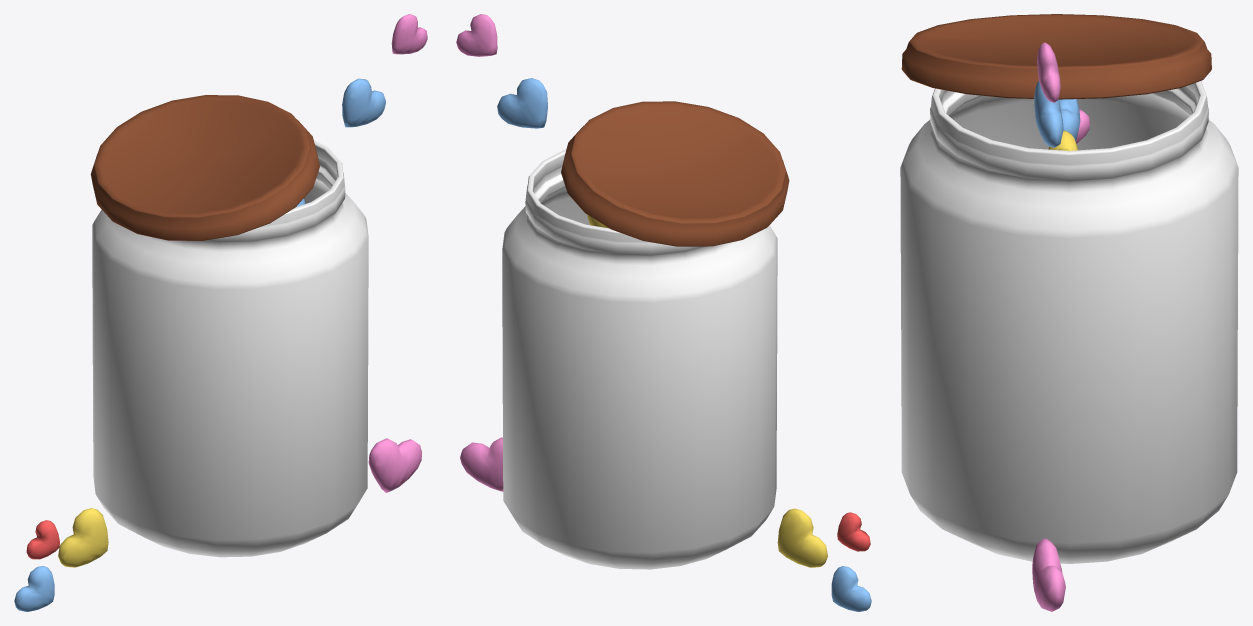
File: Level_P_50.fbx
The picture shows the model from 3 angles, left to right: view 1: azimuth 30°, elevation 25°; view 2: azimuth 150°, elevation 25°; view 3: azimuth 270°, elevation 25°; orthographic projection. The views are drawn at different scales.
Visible parts, largest first — view 1: Probnik2.001, Probnik2.002, Probnik2.003, Probnik2.012, Probnik2.043, Probnik2.014, Probnik2, Probnik2.013; view 2: Probnik2.001, Probnik2.002, Probnik2.012, Probnik2.043, Probnik2.003, Probnik2, Probnik2.014, Probnik2.013; view 3: Probnik2.001, Probnik2.002, Probnik2.003, Probnik2.043, Probnik2, Probnik2.042.
Part boxes in pixels (box(x1,y1,x2,y2)): Probnik2.001: box(92, 140, 368, 557); Probnik2.002: box(90, 95, 319, 240); Probnik2.003: box(368, 438, 421, 492); Probnik2.012: box(58, 508, 108, 567); Probnik2.043: box(342, 78, 385, 127); Probnik2.014: box(14, 566, 54, 611); Probnik2: box(391, 14, 427, 54); Probnik2.013: box(26, 520, 59, 559); Probnik2.001: box(502, 149, 777, 569); Probnik2.002: box(561, 101, 789, 246); Probnik2.012: box(777, 508, 827, 567); Probnik2.043: box(497, 78, 547, 128); Probnik2.003: box(460, 437, 503, 491); Probnik2: box(456, 14, 497, 56); Probnik2.014: box(831, 566, 871, 611); Probnik2.013: box(837, 512, 870, 551); Probnik2.001: box(900, 81, 1238, 563); Probnik2.002: box(901, 14, 1211, 99); Probnik2.003: box(1032, 538, 1065, 611); Probnik2.043: box(1034, 81, 1063, 147); Probnik2: box(1037, 42, 1060, 102); Probnik2.042: box(1059, 99, 1080, 141).
Bounding box in the file's own units: 9.35 × 10.9 × 5.44.
